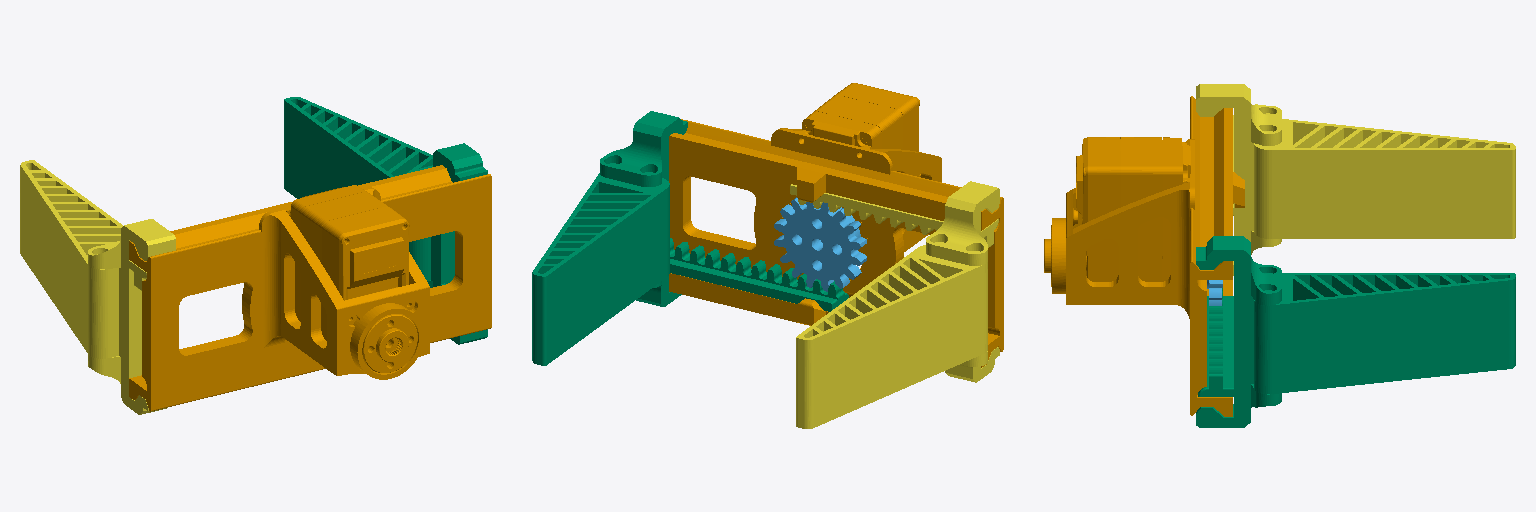
robot.urdf — Gripper:
<?xml version='1.0' encoding='utf-8'?>
<robot name="Gripper">
    <link name="base">
        <inertial>
            <origin xyz="0.00010779910369861911 -0.09520815837561873 0.007478070866539973" rpy="0.0 0.0 0.0" />
            <mass value="0.10461304973920418" />
            <inertia ixx="5.1038433178229176e-05" iyy="6.0549260091963835e-05" izz="6.500245807496184e-05" ixy="1.824582445729984e-08" iyz="6.206608223431121e-07" ixz="-5.255162005115383e-08" />
        </inertial>
        <visual name="base_visual">
            <origin xyz="0.0 0.0 0.0" rpy="0.0 0.0 0.0" />
            <geometry>
                <mesh filename="meshes/gripper_base.stl" scale="0.001 0.001 0.001" />
            </geometry>
        </visual>
        <collision name="base_collision">
            <origin xyz="0.0 0.0 0.0" rpy="0.0 0.0 0.0" />
            <geometry>
                <mesh filename="meshes/gripper_base.stl" scale="0.001 0.001 0.001" />
            </geometry>
        </collision>
    </link>
    <link name="gripper_gear">
        <inertial>
            <origin xyz="1.6738793502668603e-09 9.655029352920174e-07 0.004039938067117684" rpy="-1.7347234759768067e-18 -1.2211038725854807e-18 0.0" />
            <mass value="0.01774724630550029" />
            <inertia ixx="5.590295712412198e-07" iyy="5.590273659297149e-07" izz="8.856230083197016e-07" ixy="1.3679470777979731e-12" iyz="-1.0868272243502596e-10" ixz="-4.9066010937477666e-12" />
        </inertial>
        <visual name="gripper_gear_visual">
            <origin xyz="0.04096474968782936 -0.008207775486308067 -0.17375671718903946" rpy="-1.570796326794896 -1.831262510304996e-14 0.0" />
            <geometry>
                <mesh filename="meshes/gripper_gear.stl" scale="0.001 0.001 0.001" />
            </geometry>
        </visual>
        <collision name="gripper_gear_collision">
            <origin xyz="0.04096474968782936 -0.008207775486308067 -0.17375671718903946" rpy="-1.570796326794896 -1.831262510304996e-14 0.0" />
            <geometry>
                <mesh filename="meshes/gripper_gear.stl" scale="0.001 0.001 0.001" />
            </geometry>
        </collision>
    </link>
    <link name="arm_l">
        <inertial>
            <origin xyz="0.03264003225882398 0.0211555911928691 -0.0091383944853078" rpy="0.0 -0.0 0.0" />
            <mass value="0.026667752801736215" />
            <inertia ixx="7.543108455413492e-06" iyy="2.021908153216656e-05" izz="2.0667734039718627e-05" ixy="-1.4017981234668015e-06" iyz="-1.0592282646459763e-06" ixz="-5.054006337779948e-07" />
        </inertial>
        <visual name="arm_l_visual">
            <origin xyz="-0.24126864709285617 0.022908372908388704 -0.05999999756297966" rpy="-1.5707963267948966 1.5707963267948966 0" />
            <geometry>
                <mesh filename="meshes/arm_l.stl" scale="0.001 0.001 0.001" />
            </geometry>
        </visual>
        <collision name="arm_l_collision">
            <origin xyz="-0.24126864709285617 0.022908372908388704 -0.05999999756297966" rpy="-1.5707963267948966 1.5707963267948966 0" />
            <geometry>
                <mesh filename="meshes/arm_l.stl" scale="0.001 0.001 0.001" />
            </geometry>
        </collision>
    </link>
    <link name="arm_r">
        <inertial>
            <origin xyz="0.032640032258826814 0.02115558982284637 -0.0091383993593423" rpy="0.0 -0.0 0.0" />
            <mass value="0.026667752801737835" />
            <inertia ixx="7.543108455413818e-06" iyy="2.0219081532166995e-05" izz="2.066773403971439e-05" ixy="-1.4017981234668688e-06" iyz="-1.0592282646459086e-06" ixz="-5.054006337782155e-07" />
        </inertial>
        <visual name="arm_r_visual">
            <origin xyz="-0.2412686470928561 0.022925122231687044 -0.06000000243702022" rpy="1.5707963267948966 -1.5707963267948966 0" />
            <geometry>
                <mesh filename="meshes/arm_r.stl" scale="0.001 0.001 0.001" />
            </geometry>
        </visual>
        <collision name="arm_r_collision">
            <origin xyz="-0.2412686470928561 0.022925122231687044 -0.06000000243702022" rpy="1.5707963267948966 -1.5707963267948966 0" />
            <geometry>
                <mesh filename="meshes/arm_r.stl" scale="0.001 0.001 0.001" />
            </geometry>
        </collision>
    </link>
    <joint name="base_jaw_joint" type="revolute">
        <origin xyz="6.68e-05 -0.08255248999999999 4.8580000000000006e-05" rpy="1.579522973080172 -7.615242165712214e-05 -3.132866671901942" />
        <parent link="base" />
        <child link="gripper_gear" />
        <axis xyz="-2.0457628693241193e-07 -4.631537734965663e-07 1.0000001546903599" />
        <limit lower="0.0" upper="3.14" effort="1000000" velocity="1000000" />
       
    </joint>
    <joint name="base_gripper_right_joint" type="prismatic">
        <origin xyz="-0.05997742 -0.07481815 0.023050579999999998" rpy="-1.5707963267948966 -0.0 1.570796326794884" />
        <parent link="base" />
        <child link="arm_r" />
        <axis xyz="-1.2715136740082433e-14 0.0 1.0" />
        <limit lower="-0.044" upper="0.0" effort="1000000" velocity="1000000" />
        <mimic joint="base_jaw_joint" multiplier="-0.013721" offset="0.0" />
    
    </joint>
    <joint name="base_gripper_left_joint" type="prismatic">
        <origin xyz="0.060022580000000006 -0.07481815 -0.02304942" rpy="1.5707963267948966 -0.0 1.570796326794884" />
        <parent link="base" />
        <child link="arm_l" />
        <axis xyz="1.271513674008249e-14 0.0 1.0" />
        <limit lower="-0.044" upper="0.0" effort="1000000" velocity="1000000" />
        <mimic joint="base_gripper_right_joint" multiplier="1.0" offset="0.0" />
    
    </joint>
</robot>

--- Facts derived from the render (not from the file) ---
The picture shows the robot from 3 angles, left to right: view 1: azimuth 30°, elevation 25°; view 2: azimuth 150°, elevation 25°; view 3: azimuth 270°, elevation 25°; orthographic projection.
Model Gripper with 4 links and 3 joints (1 revolute, 2 prismatic), rooted at base, posed all joints at 0.
Links seen in each view (by area): view 1: base, arm_r, arm_l; view 2: base, arm_r, arm_l, gripper_gear; view 3: arm_l, arm_r, base.
Link boxes in pixels (x1,y1,x2,y2): base: (129, 165, 491, 411); arm_r: (20, 160, 175, 414); arm_l: (284, 97, 487, 344); base: (669, 83, 1003, 367); arm_r: (790, 181, 999, 428); arm_l: (532, 111, 848, 365); gripper_gear: (774, 197, 866, 291); arm_l: (1196, 236, 1515, 427); arm_r: (1196, 84, 1515, 275); base: (1044, 96, 1244, 416).
Bounding box of the posed robot: 0.1356 × 0.1441 × 0.0655 m (x, y, z).
4 mesh visuals loaded from 4 distinct referenced files (4 binary STL).
